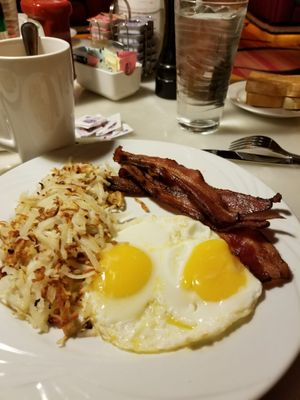sushi: (71, 34, 144, 101)
